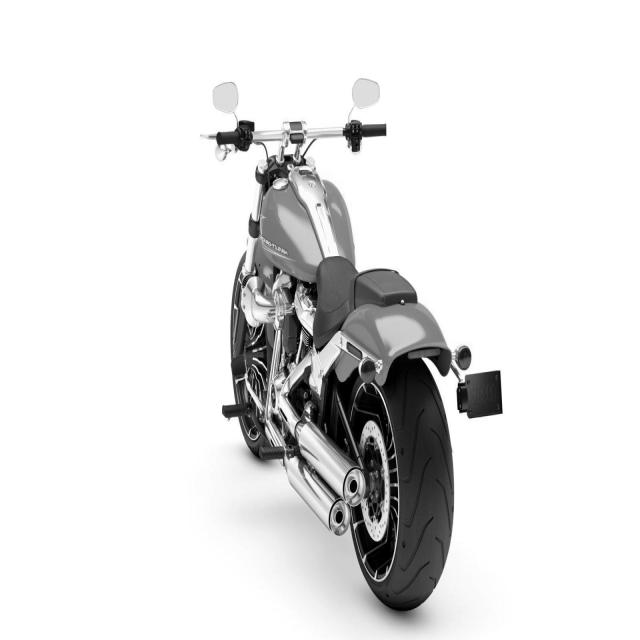Motorcycle: (209, 119, 470, 609)
